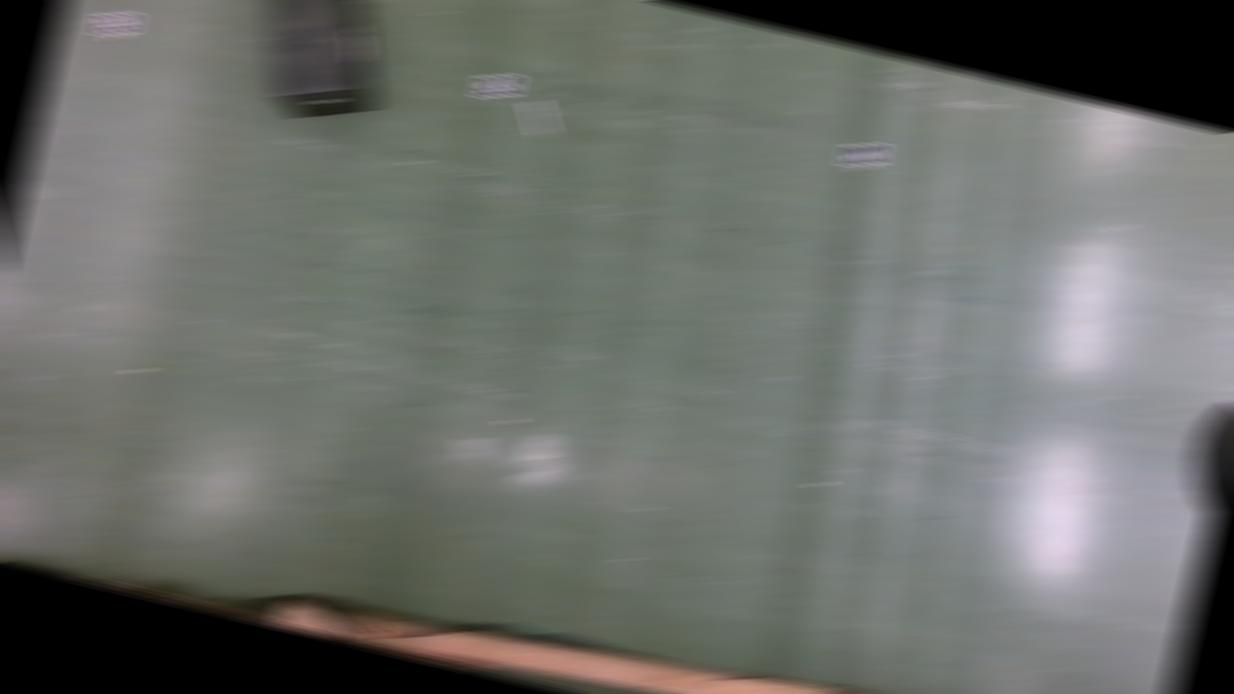probes: (521, 100, 557, 136)
rako: (234, 0, 404, 135)
